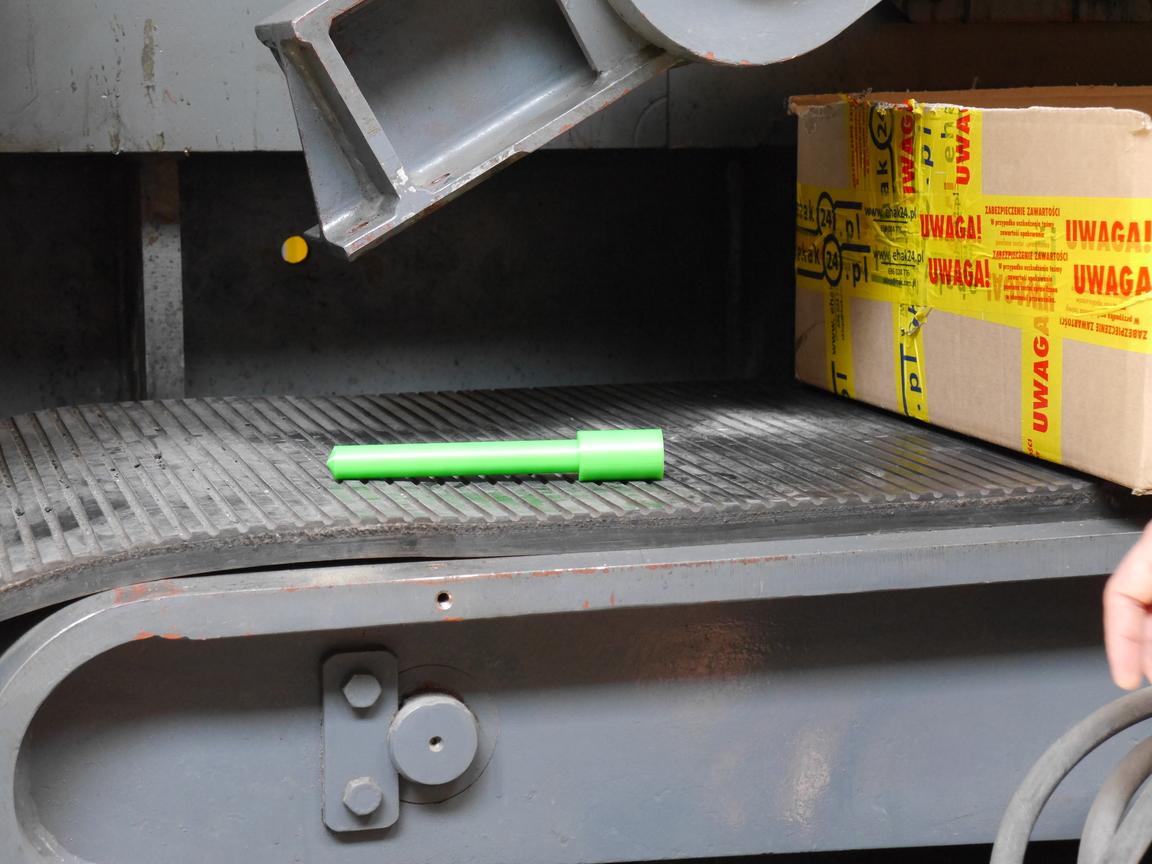cargo_g: (324, 428, 665, 483)
